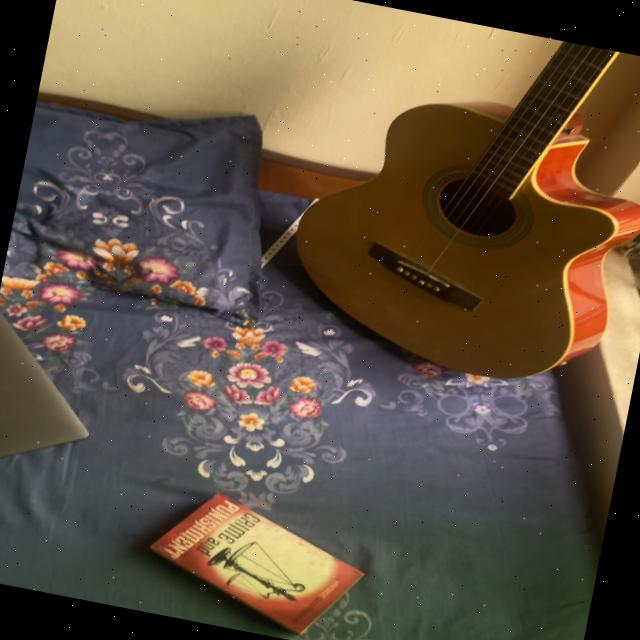book: (119, 473, 390, 640)
guitar: (271, 7, 640, 408)
laptop: (0, 279, 124, 490)
